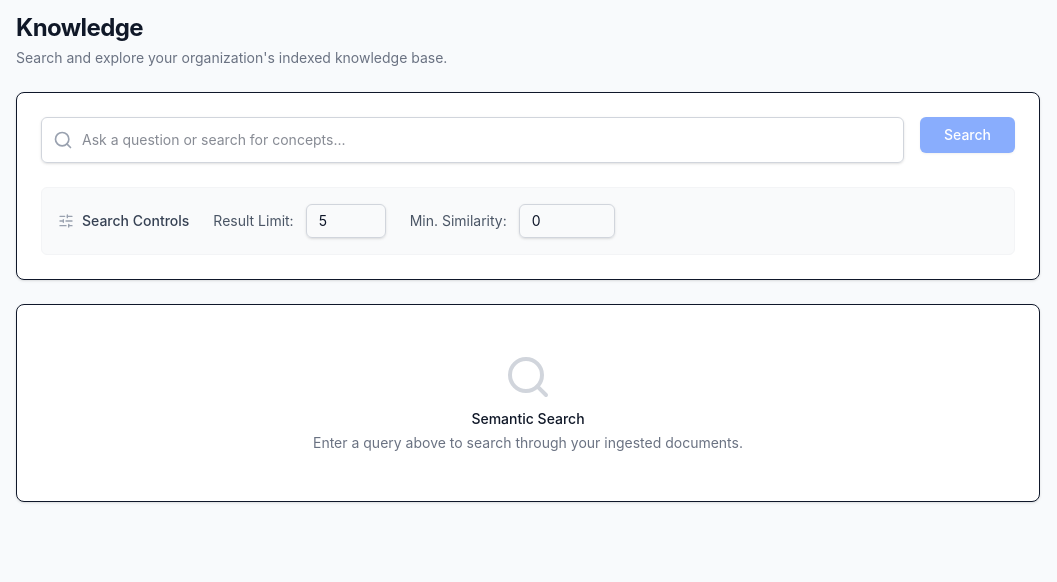
Scenario: Knowledge Page Search Controls & Grouping › renders no-results state properly
Type "fake" into the field with placeholder "Ask a question or search for concepts..." at (472, 140), box [41,117,904,163]
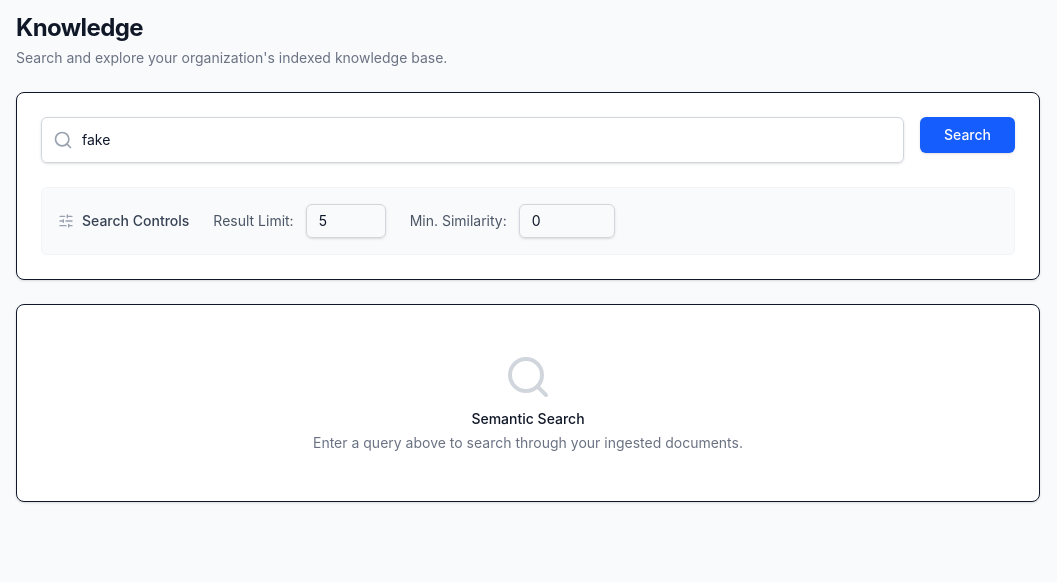
Press Enter in the field with placeholder "Ask a question or search for concepts...", box [41,117,904,163]
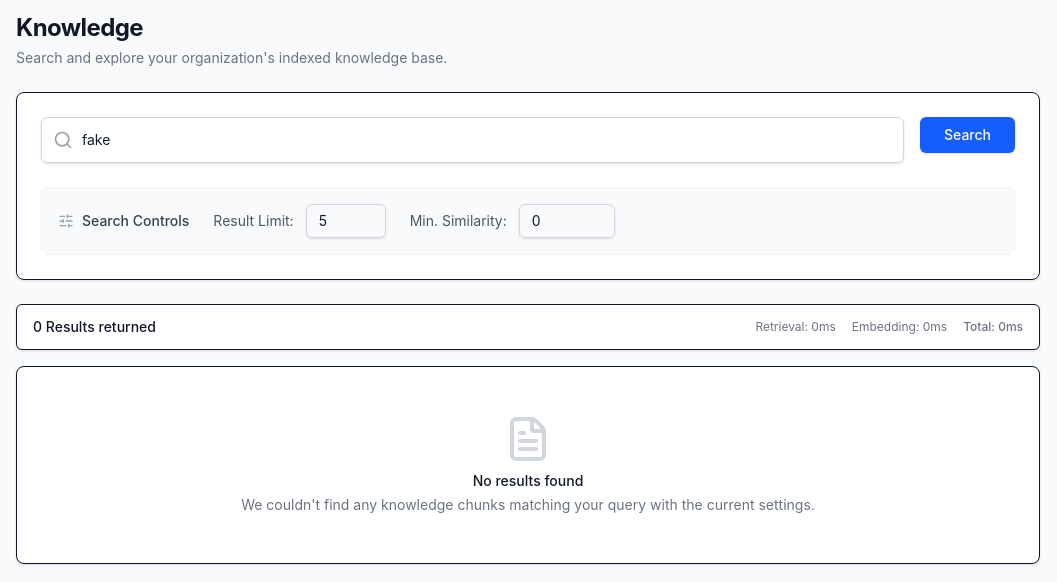
expect the heading "0 Results returned" is shown: met, box [33,317,156,337]
expect the heading "No results found" is shown: met, box [473,472,583,489]
expect the text "We couldn't find any knowledge chunks" is shown: met, box [241,496,815,513]
